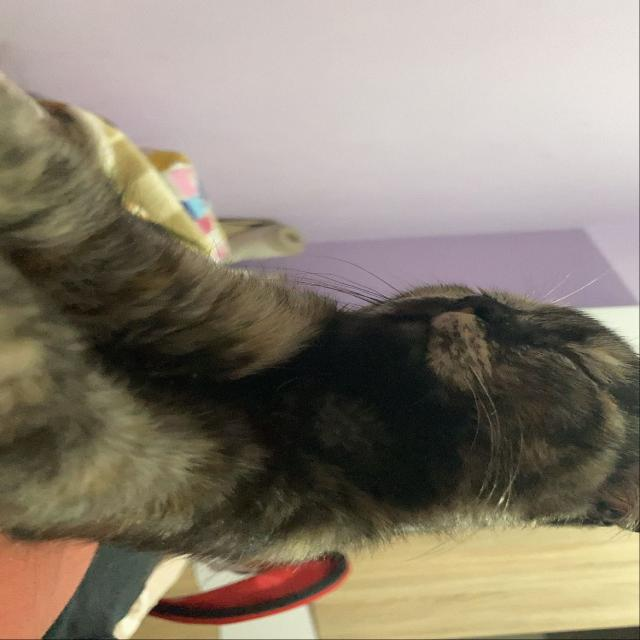authorized: (1, 70, 637, 573)
